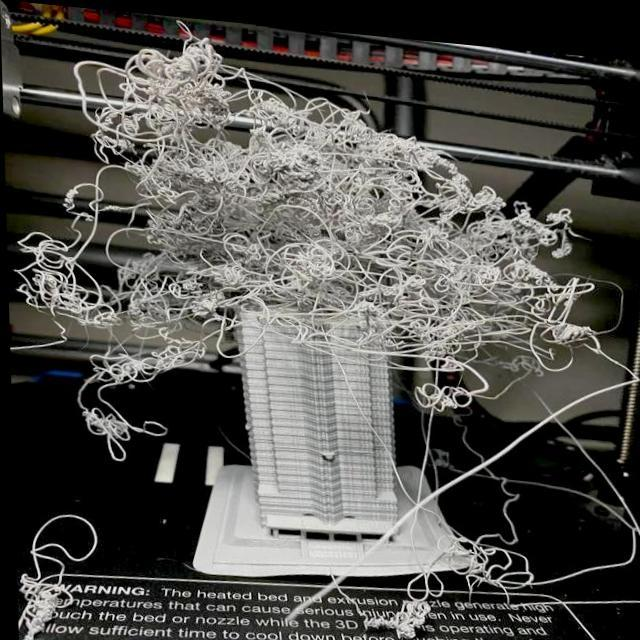spaghetti: (331, 104, 636, 433), (6, 194, 271, 464), (79, 31, 331, 210), (236, 206, 372, 374)
